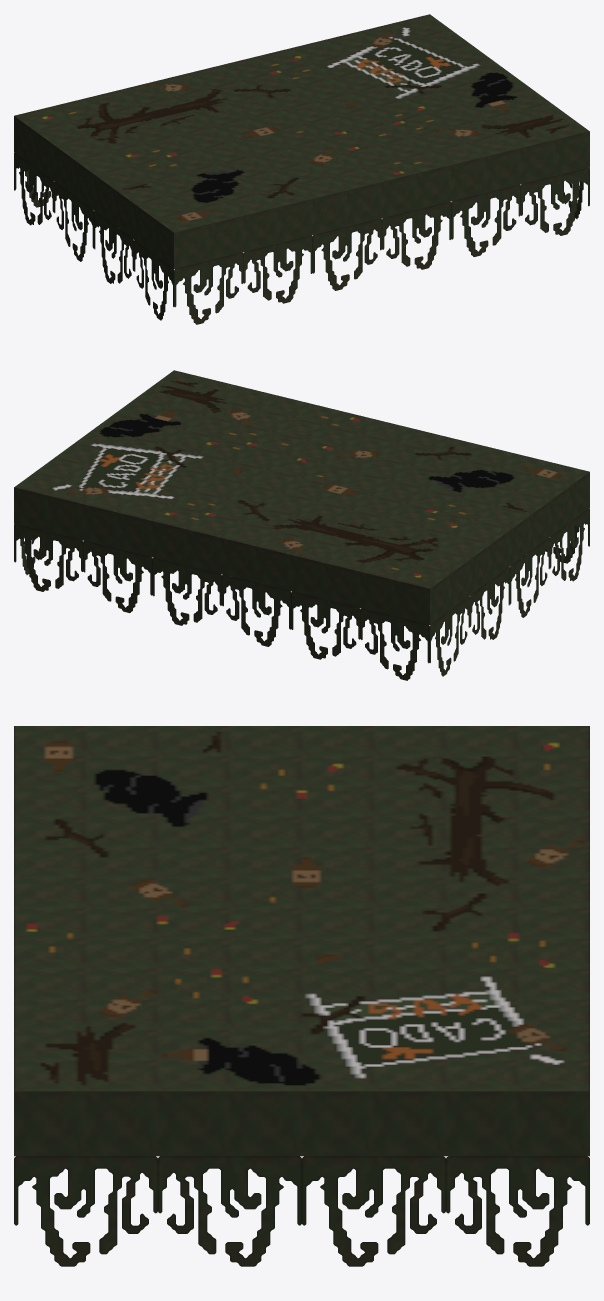
Rendered from Grass_Board.obj.
3 views of the same model, one above another, from view 1: azimuth 30°, elevation 25°; view 2: azimuth 150°, elevation 25°; view 3: azimuth 270°, elevation 25° (orthographic). The views are drawn at different scales.
Visible parts, largest first — view 1: Default; view 2: Default; view 3: Default.
Boxes of the visible parts, left/top/right/bottom form: Default: left=14, top=14, right=589, bottom=324; Default: left=14, top=370, right=589, bottom=680; Default: left=14, top=726, right=589, bottom=1266.
Size of the model in its own units: 12 by 3 by 8.
Materials: 1 (1 with a texture image).
